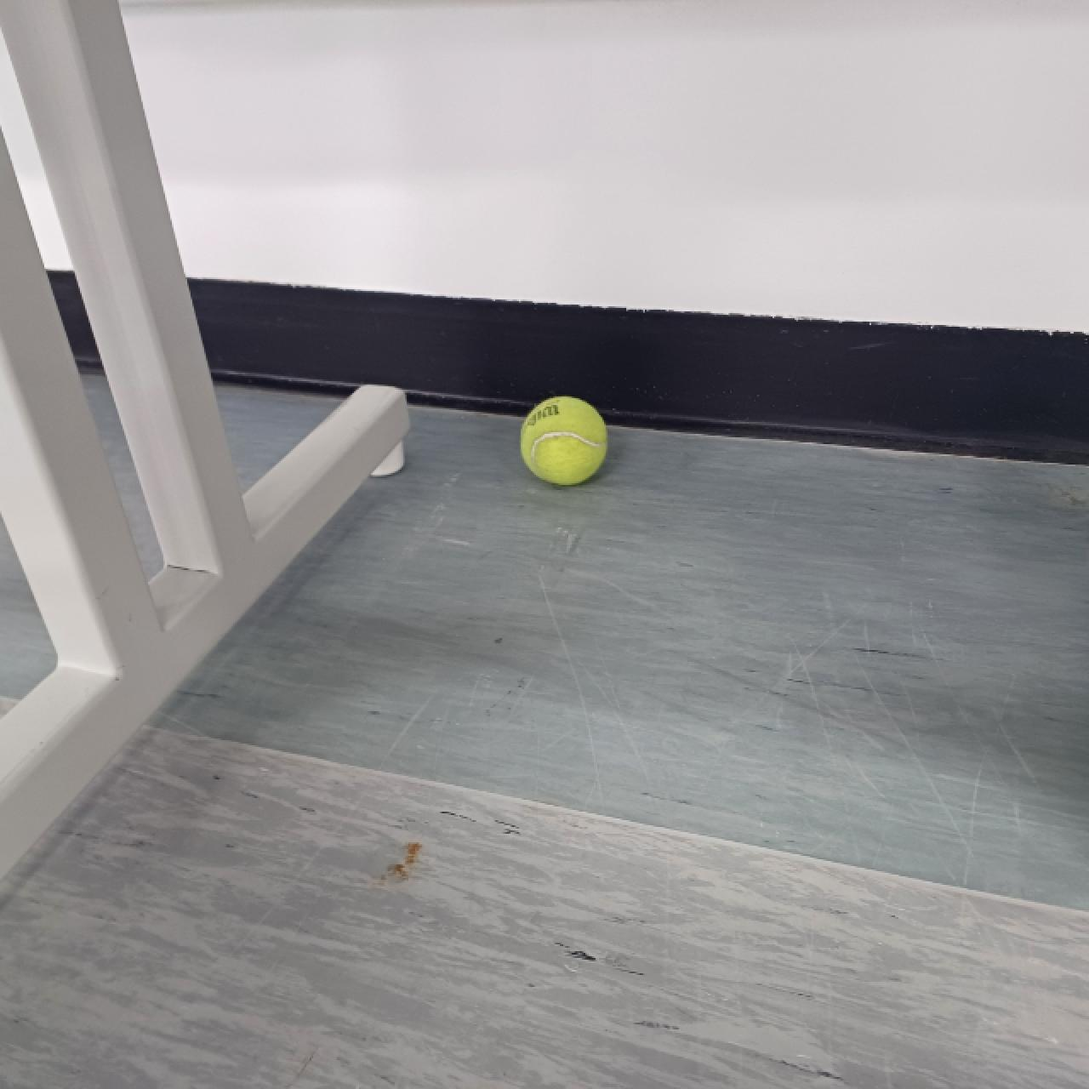tennis-ball: (517, 395, 610, 486)
